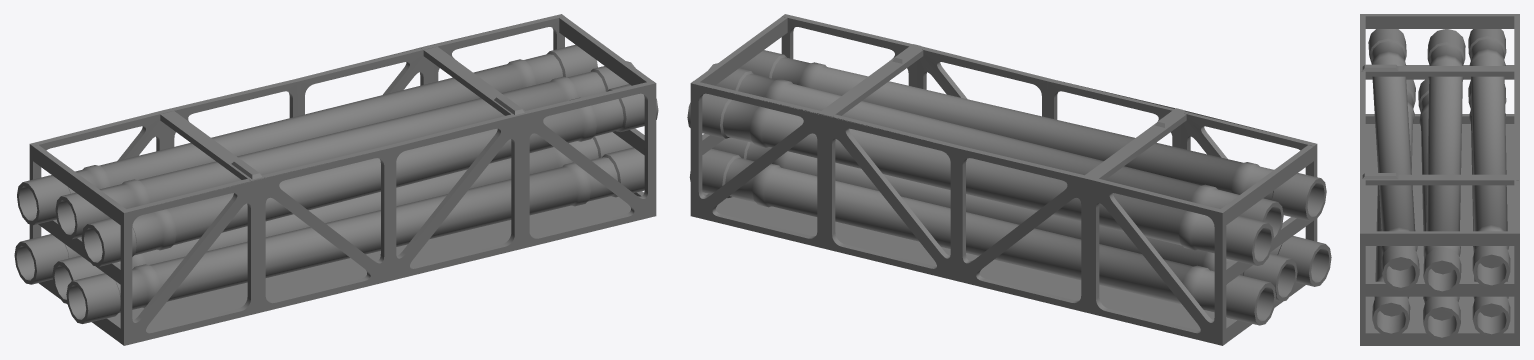
The model's file is q-scifi-mod-prop-pipeholder.glb.
The picture shows the model from 3 angles, left to right: view 1: azimuth 30°, elevation 25°; view 2: azimuth 150°, elevation 25°; view 3: azimuth 270°, elevation 25°; orthographic projection. The views are drawn at different scales.
Visible parts, largest first — view 1: Prop_PipeHolder; view 2: Prop_PipeHolder; view 3: Prop_PipeHolder.
Part boxes in pixels (x1,y1,x2,y2): Prop_PipeHolder: (14, 14, 658, 345); Prop_PipeHolder: (687, 14, 1331, 345); Prop_PipeHolder: (1360, 14, 1519, 345).
Size of the model in its own units: 4.12 by 0.9274 by 1.16.
3 materials, 3 textured.
